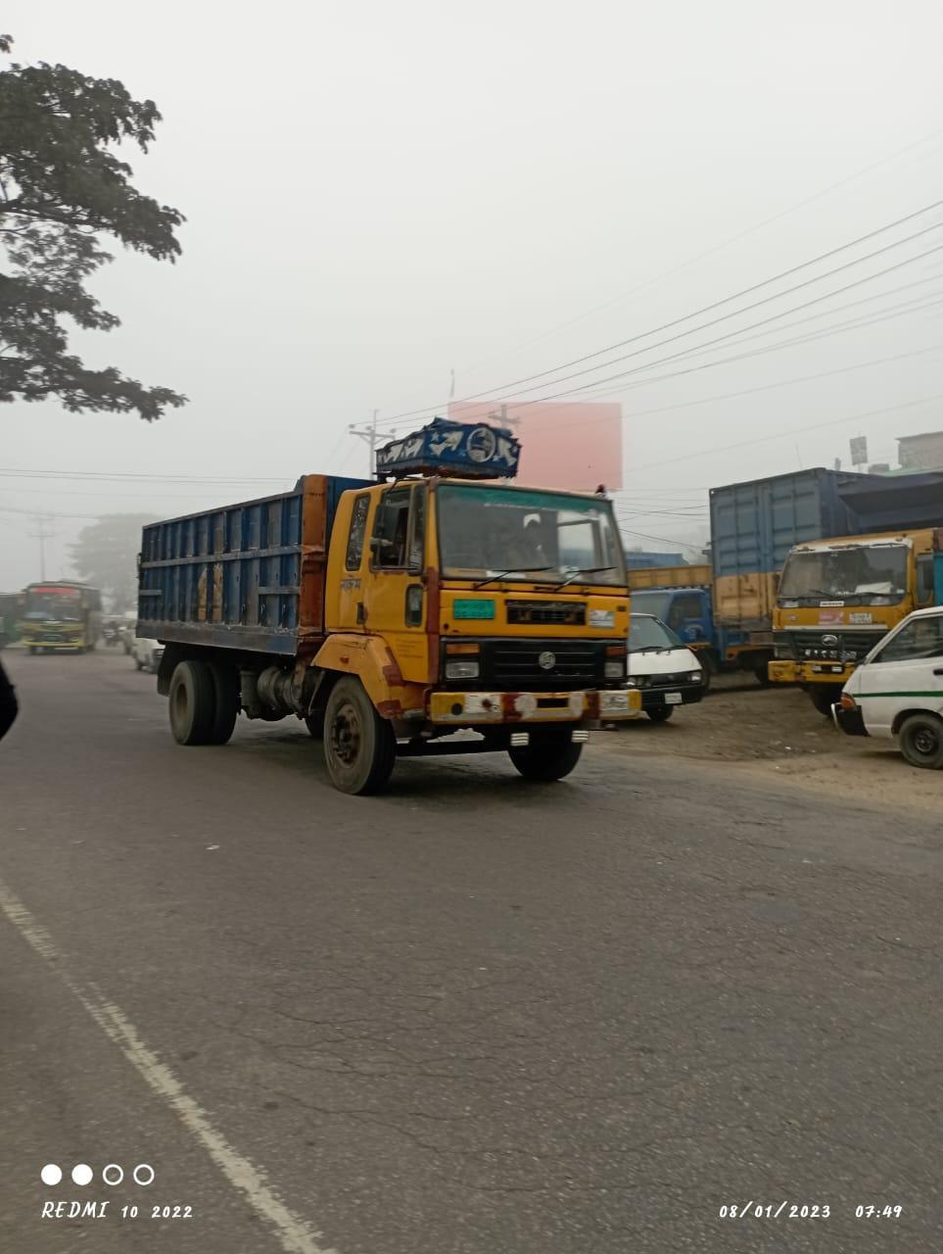Bus: (17, 571, 106, 659)
Car: (834, 601, 943, 772), (625, 608, 706, 724)
Truck: (115, 415, 637, 791), (769, 532, 915, 697), (699, 467, 825, 651)
